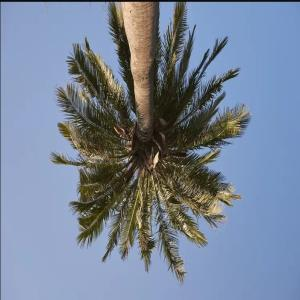palm tree: (49, 1, 252, 285)
